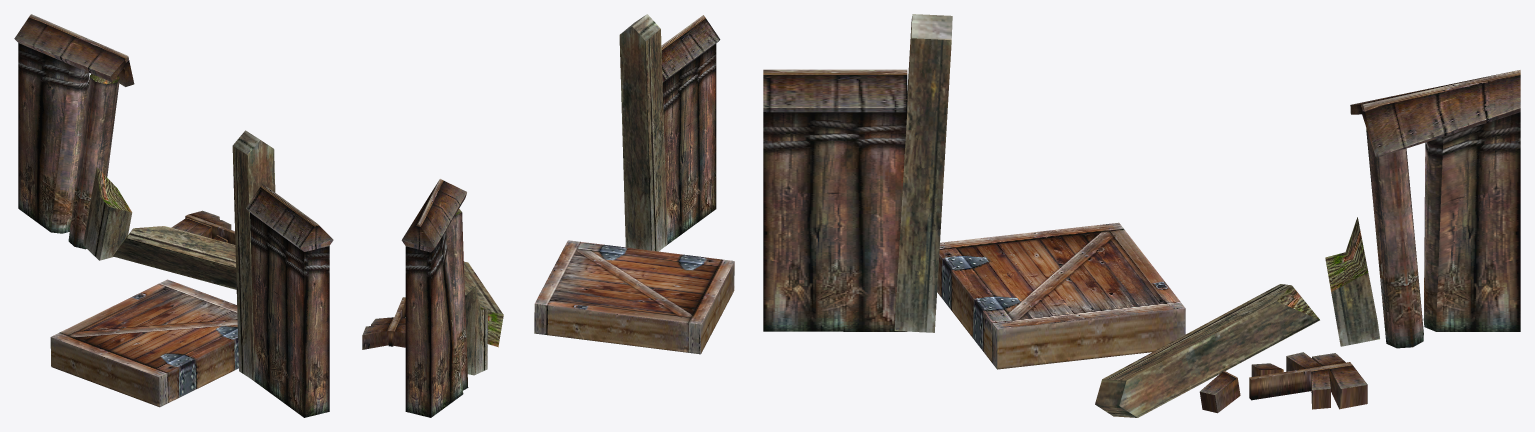
The model's file is S_RFGat2.glb.
3 views of the same model, side by side, from view 1: azimuth 30°, elevation 25°; view 2: azimuth 150°, elevation 25°; view 3: azimuth 270°, elevation 25° (orthographic). The views are drawn at different scales.
Parts seen in each view (by area): view 1: S_RFGat2-col; view 2: S_RFGat2-col; view 3: S_RFGat2-col.
Part boxes in pixels (left/top/right/bottom): S_RFGat2-col: left=14, top=14, right=333, bottom=417; S_RFGat2-col: left=362, top=14, right=734, bottom=417; S_RFGat2-col: left=763, top=14, right=1520, bottom=417.
Bounding box in the file's own units: 5.43 × 4.86 × 10.
Materials: 7 (7 with a texture image).
